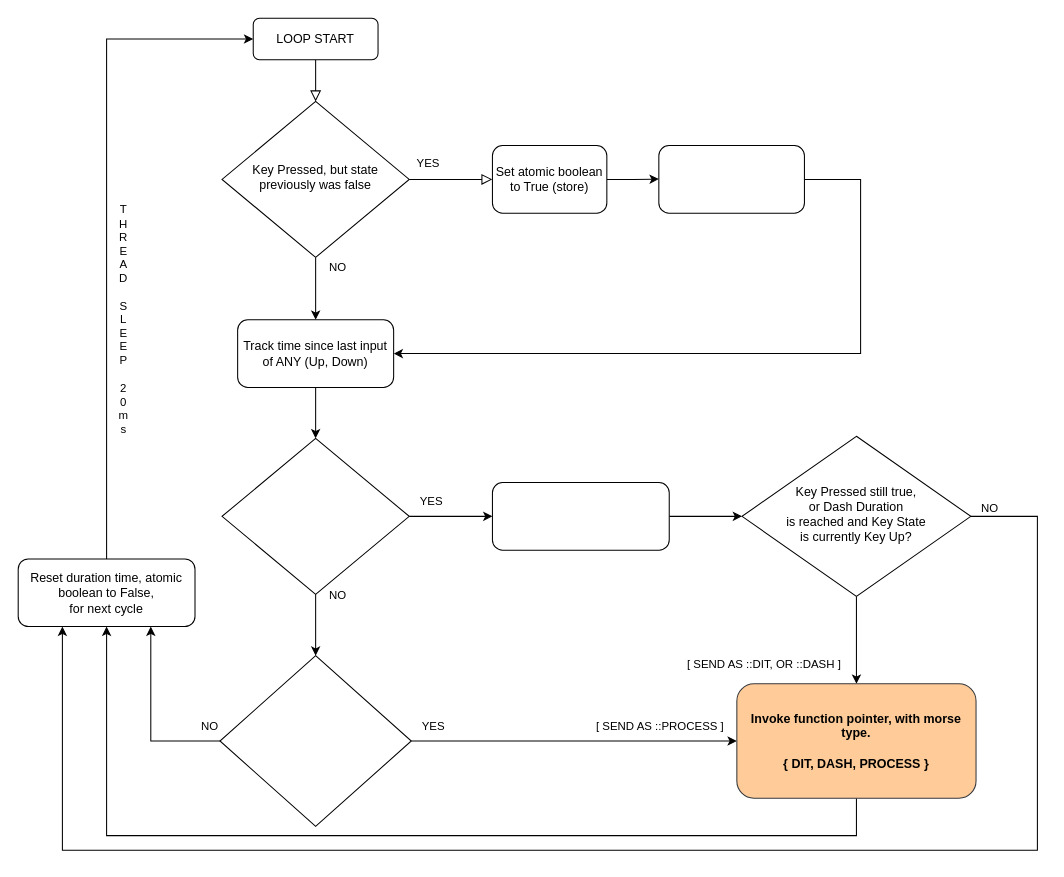
The diagram is 1064 pixels wide and 877 high, and some of its shapes have lost their labels. Here are the shapes that lost their labels. From the top down, the centre of each, then its label:
At (731,179): "Set current time for KEYPRESS_DOWN".
At (315,515): "KEYPRESS_DOWN is set and not empty?".
At (580,516): "Subtract current time from KEYPRESS_DOWN (Duration)".
At (315,740): "Duration since last input longer than 1 second?".
